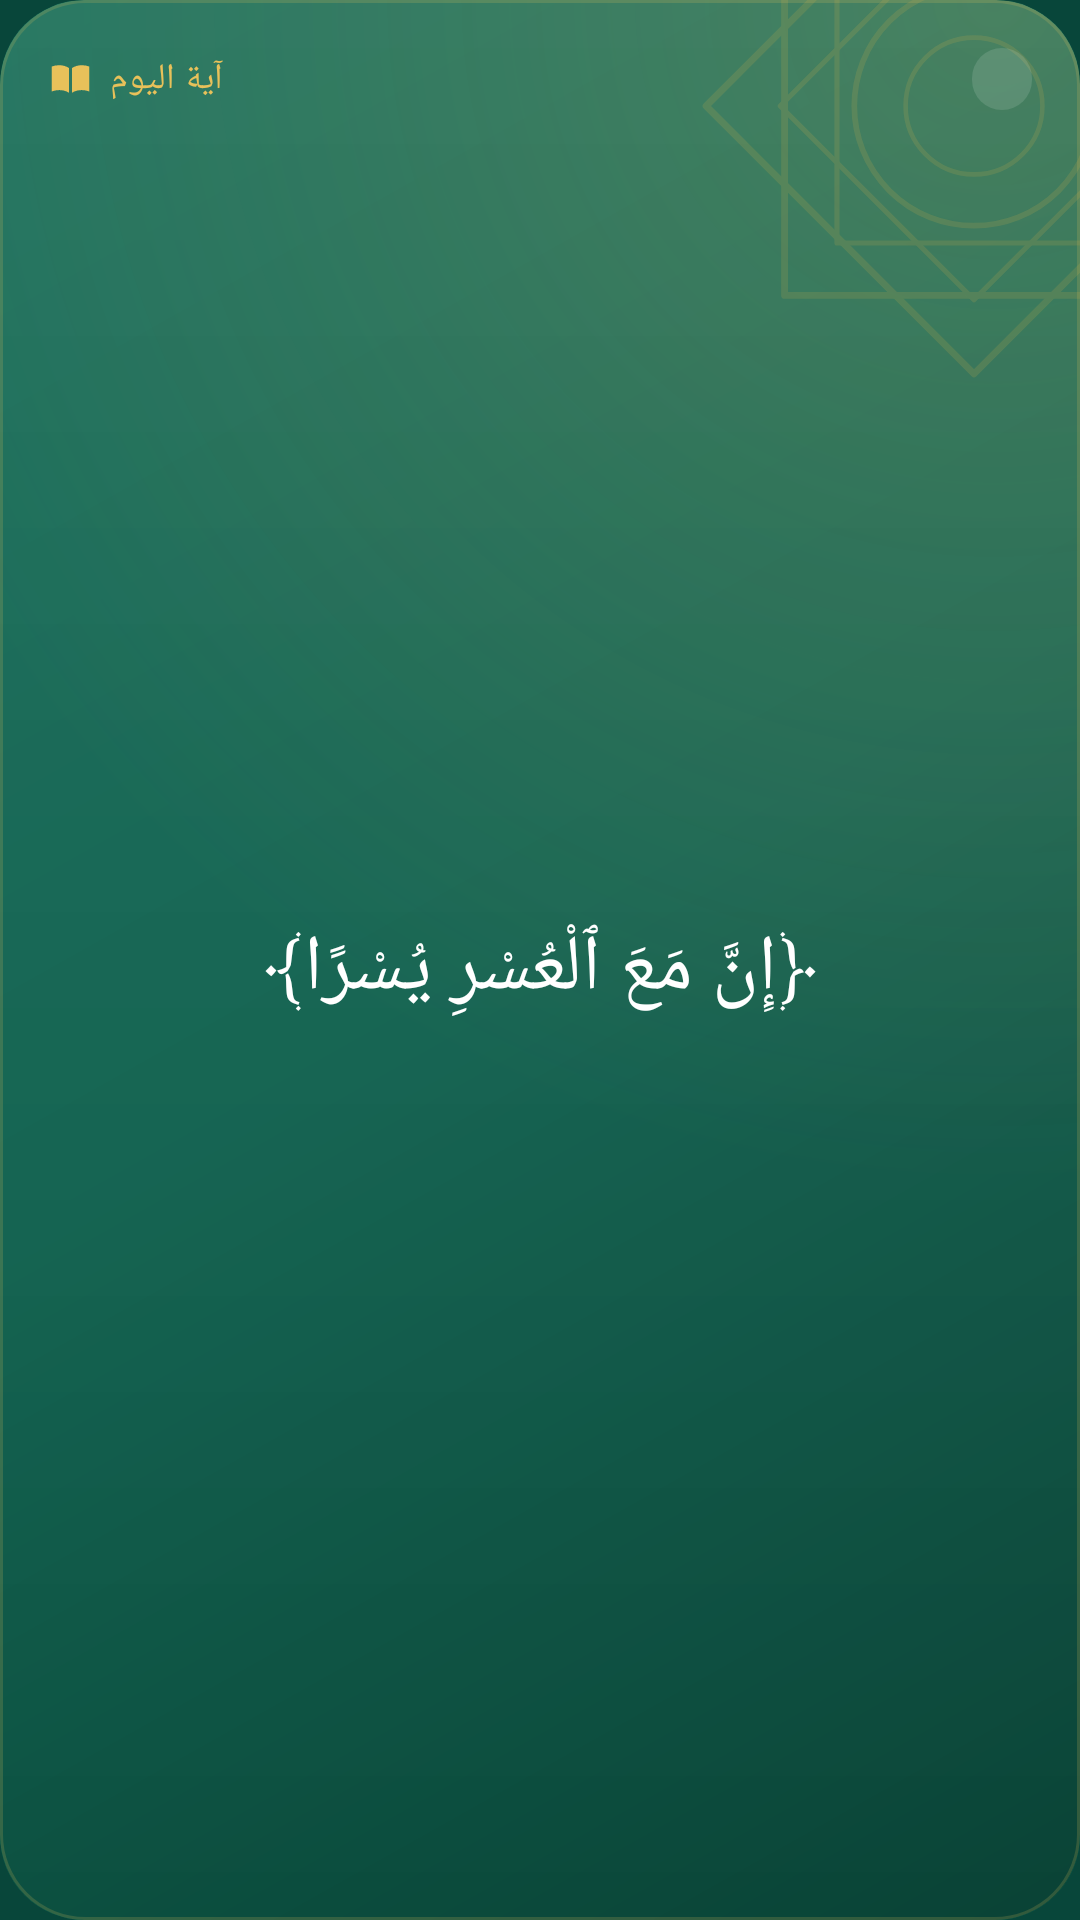

Where icons sit on this 1080*1920 app screen, as (x1, y1, x2, y2):
book: (51, 65, 90, 93)
